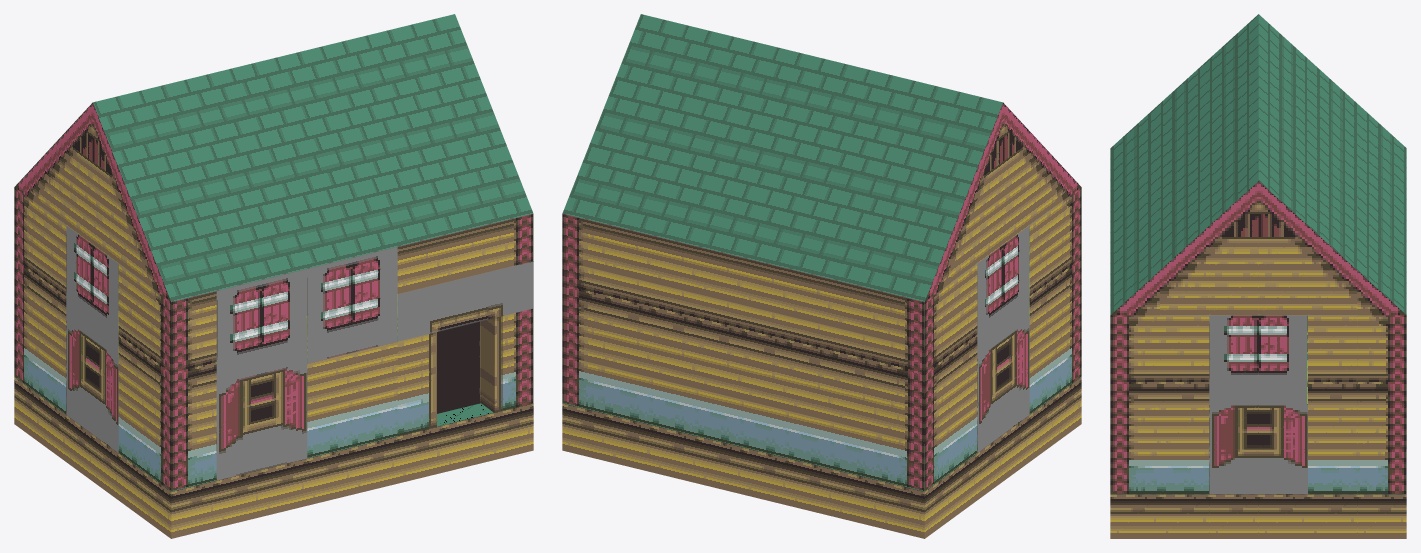
Rendered from house6.glb.
3 views of the same model, side by side, from view 1: azimuth 30°, elevation 25°; view 2: azimuth 150°, elevation 25°; view 3: azimuth 270°, elevation 25° (orthographic). The views are drawn at different scales.
Parts seen in each view (by area): view 1: Scenario.001; view 2: Scenario.001; view 3: Scenario.001.
Boxes of the visible parts, x1=… form: Scenario.001: x1=14, y1=14, x2=533, y2=538; Scenario.001: x1=562, y1=14, x2=1081, y2=538; Scenario.001: x1=1110, y1=14, x2=1406, y2=538.
Bounding box in the file's own units: 8.01 × 8 × 6.01.
1 material, 1 textured.
